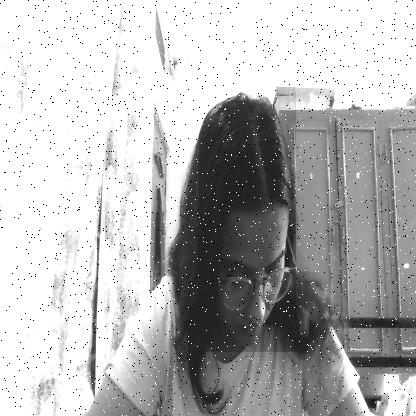Normal: (199, 87, 296, 352)
